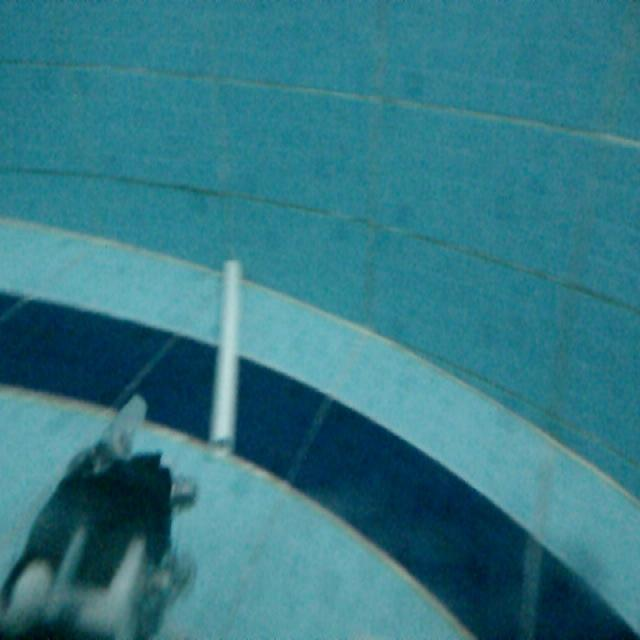Cube: (205, 252, 247, 455)
